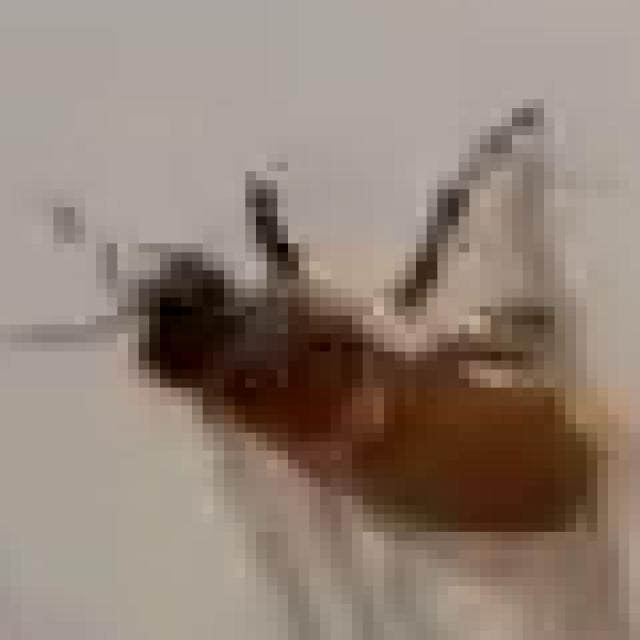honeybee: (77, 156, 606, 542)
